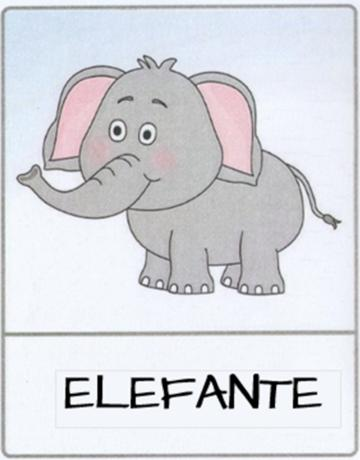elefante: (3, 1, 360, 460)
